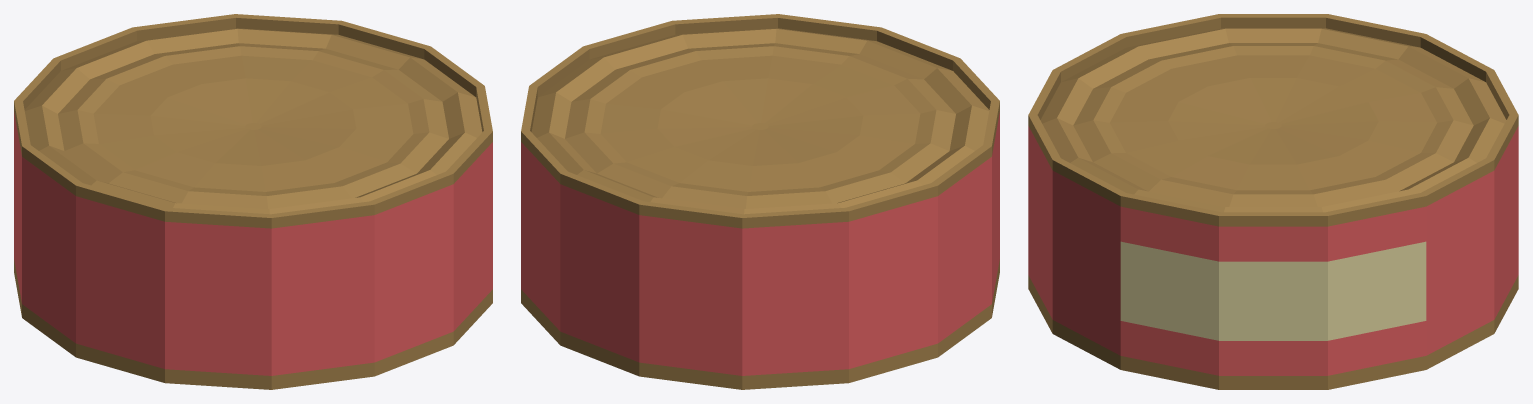
The model's file is CanSmall.fbx.
3 views of the same model, side by side, from view 1: azimuth 30°, elevation 25°; view 2: azimuth 150°, elevation 25°; view 3: azimuth 270°, elevation 25° (orthographic).
Visible parts, largest first — view 1: Katzenfutter; view 2: Katzenfutter; view 3: Katzenfutter.
Boxes of the visible parts, <box> form: Katzenfutter: <box>14,14,492,389</box>; Katzenfutter: <box>521,14,999,389</box>; Katzenfutter: <box>1028,14,1518,389</box>.
Size of the model in its own units: 347 by 139 by 356.
